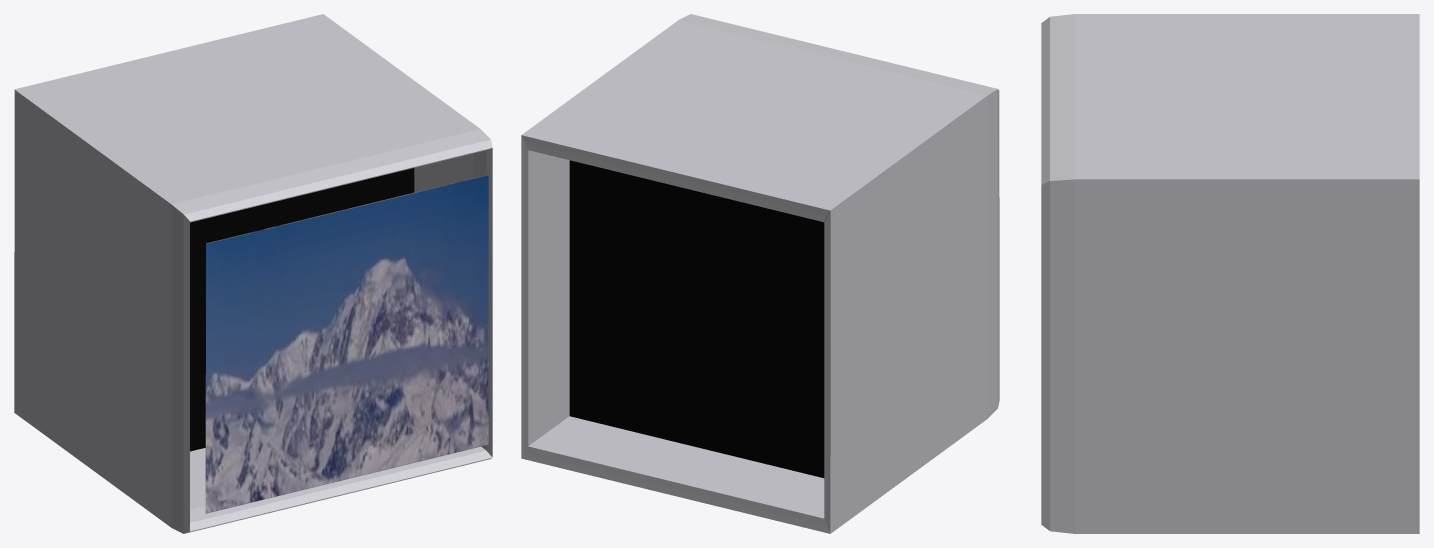
The model's file is sh-contrib-mont-blanc-frame.glb.
3 renders of one model, left to right at view 1: azimuth 30°, elevation 25°; view 2: azimuth 150°, elevation 25°; view 3: azimuth 270°, elevation 25°, orthographic. The views are drawn at different scales.
Parts seen in each view (by area): view 1: MetalFrame_Cylinder_Aluminium.008, Photo_Cube_Material_MontBlanc.jpg, Frame_Black_Material.009; view 2: MetalFrame_Cylinder_Aluminium.008, Frame_Black_Material.009; view 3: MetalFrame_Cylinder_Aluminium.008.
Boxes of the visible parts, left/top/right/bottom form: MetalFrame_Cylinder_Aluminium.008: left=14, top=14, right=492, bottom=533; Photo_Cube_Material_MontBlanc.jpg: left=205, top=174, right=488, bottom=513; Frame_Black_Material.009: left=188, top=168, right=414, bottom=451; MetalFrame_Cylinder_Aluminium.008: left=521, top=14, right=999, bottom=533; Frame_Black_Material.009: left=569, top=160, right=828, bottom=478; MetalFrame_Cylinder_Aluminium.008: left=1041, top=14, right=1419, bottom=533.
Bounding box in the file's own units: 1 × 1 × 1.
Materials: 3 (1 with a texture image).
